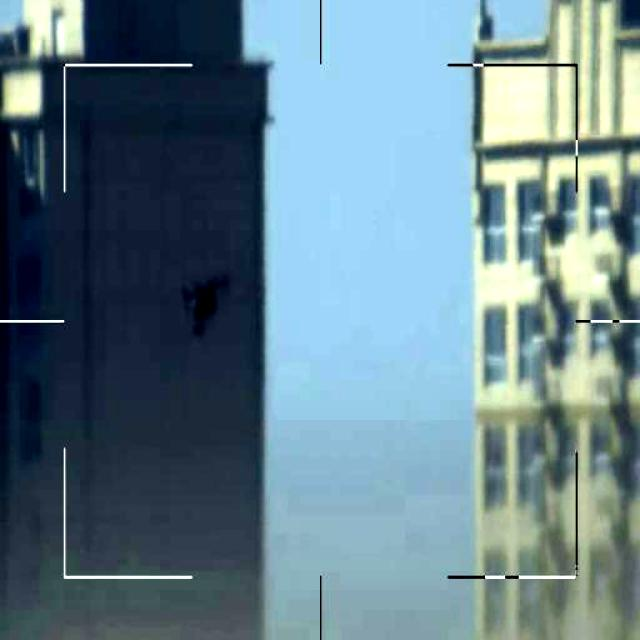bird: (175, 266, 238, 339)
